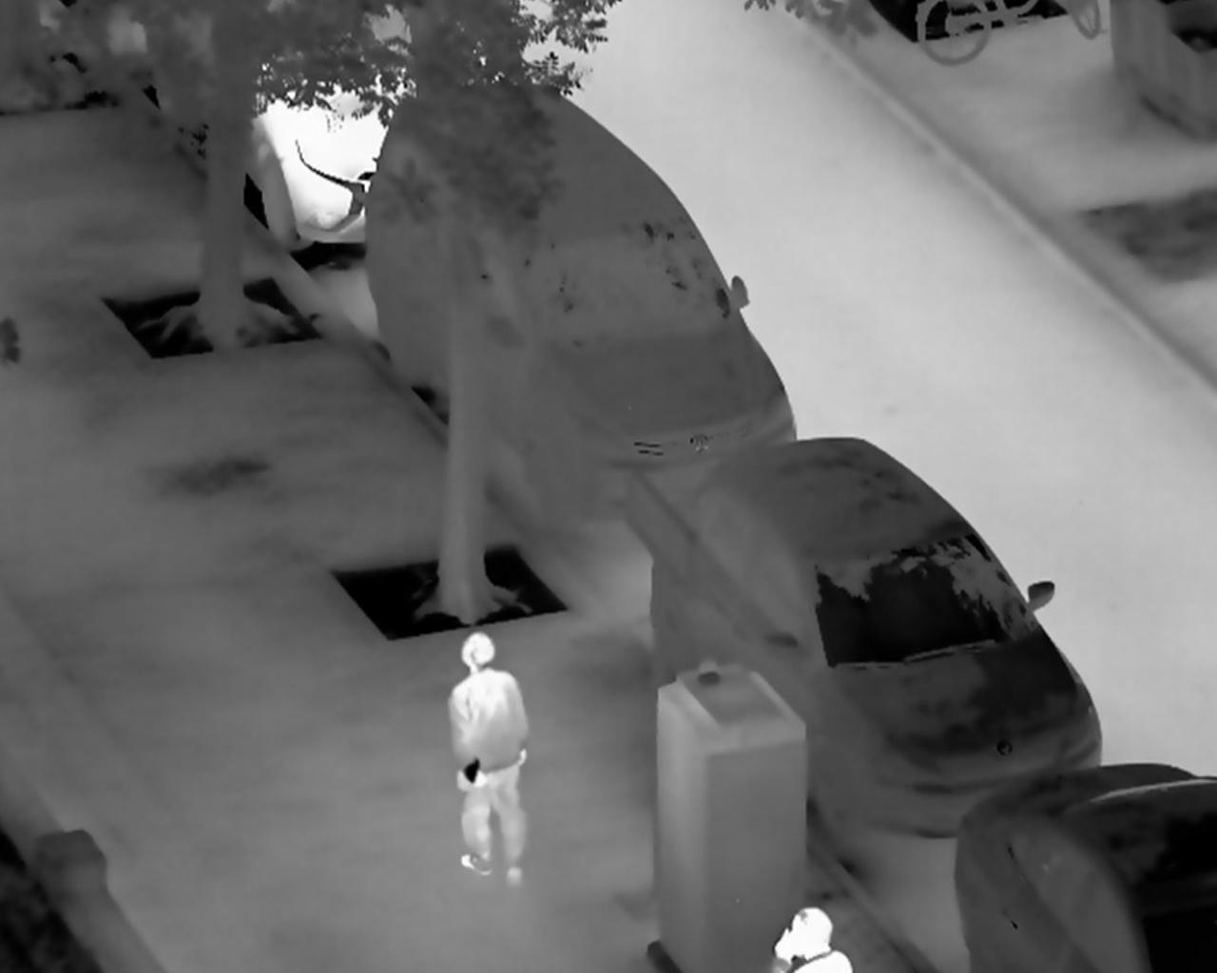person: (447, 628, 533, 890)
